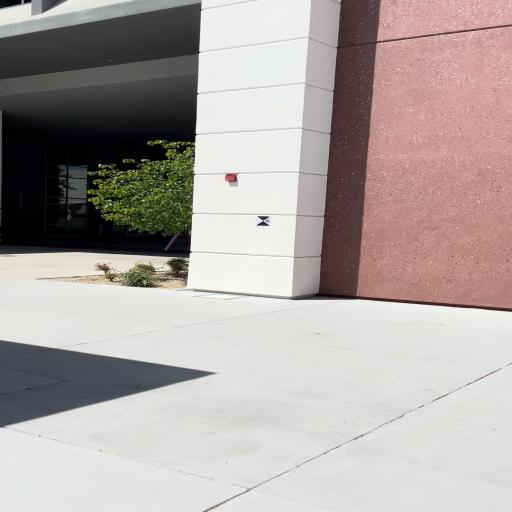target6: (256, 216, 271, 226)
